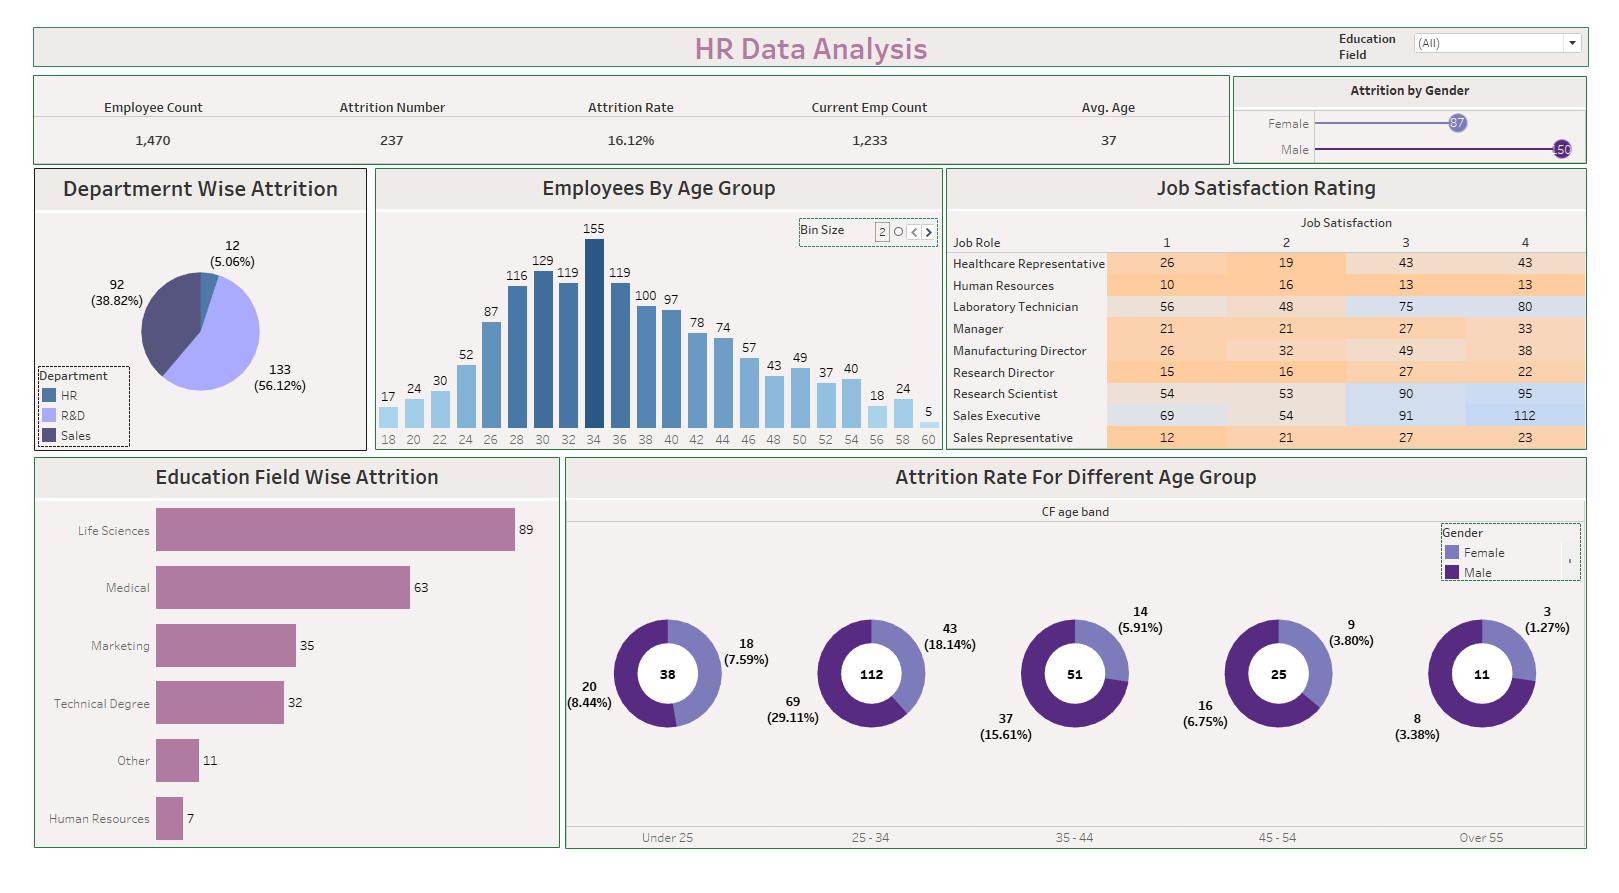

The dashboard page shown, as its layout file describes it:
{"tool":"tableau","page":{"name":"Dashboard 1","canvas":[1580,850],"ordinal":0},"visuals":[{"type":"title","box":[8,8,1564,48]},{"type":"filter","title":"Departmernt Wise Attrition","param":"[federated.0pk87mt0cjuehi1b49u8q1bwmp1z].[none:Education Field:nk]","box":[1318,15,246,34]},{"type":"worksheet","title":"Metrics","mark":"Automatic","box":[12,60,1197,90]},{"type":"worksheet","title":"Attrition by Gender","mark":"Automatic","rows":["Gender"],"cols":["Calculation_540994948697702400","Calculation_540994948697702400"],"box":[1212,61,354,88]},{"type":"worksheet","title":"Departmernt Wise Attrition","mark":"Pie","box":[13,153,333,283]},{"type":"worksheet","title":"Employees By Age Group","mark":"Automatic","rows":["Employee Count"],"cols":["Age (bin)"],"box":[354,153,568,282]},{"type":"worksheet","title":"Job Satisfaction Rating","mark":"Square","rows":["Job Role"],"cols":["Job Satisfaction"],"box":[925,153,641,282]},{"type":"parameter","param":"[Parameters].[Parameter 1]","box":[778,203,139,29]},{"type":"legend","title":"Departmernt Wise Attrition","param":"[federated.0pk87mt0cjuehi1b49u8q1bwmp1z].[none:Department:nk]","box":[17,351,92,81]},{"type":"worksheet","title":"Education Field Wise Attrition","mark":"Automatic","rows":["Education Field"],"cols":["Calculation_540994948697702400"],"box":[13,442,526,391]},{"type":"worksheet","title":"Attrition Rate For Different Age Group","mark":"Pie","rows":["Calculation_540994948713828356","Calculation_540994948713828356"],"cols":["CF_age band"],"box":[544,442,1022,392]},{"type":"legend","title":"Attrition Rate For Different Age Group","param":"[federated.0pk87mt0cjuehi1b49u8q1bwmp1z].[none:Gender:nk]","box":[1420,508,140,58]}]}

Visuals, with their boxes in screenshot pixels (x1, y1, x2, y2), scaled from the page's 1580x850 canvas onto the 1619x893 screenshot:
title: box(8, 8, 1611, 59)
"Departmernt Wise Attrition" filter: box(1351, 16, 1603, 51)
"Metrics" worksheet: box(12, 63, 1239, 158)
"Attrition by Gender" worksheet: box(1242, 64, 1605, 157)
"Departmernt Wise Attrition" worksheet (Pie marks): box(13, 161, 355, 458)
"Employees By Age Group" worksheet: box(363, 161, 945, 457)
"Job Satisfaction Rating" worksheet (Square marks): box(948, 161, 1605, 457)
parameter: box(797, 213, 940, 244)
"Departmernt Wise Attrition" legend: box(17, 369, 112, 454)
"Education Field Wise Attrition" worksheet: box(13, 464, 552, 875)
"Attrition Rate For Different Age Group" worksheet (Pie marks): box(557, 464, 1605, 876)
"Attrition Rate For Different Age Group" legend: box(1455, 534, 1599, 595)
